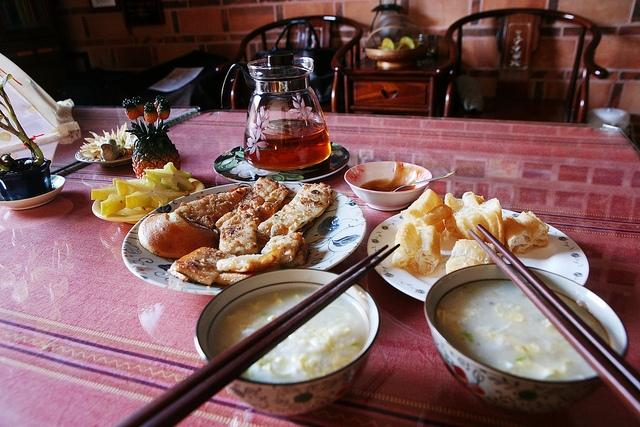pineapple: (125, 119, 180, 178), (144, 163, 195, 192), (100, 191, 126, 216), (126, 190, 152, 209), (91, 186, 118, 201), (122, 98, 140, 120), (144, 102, 158, 123), (157, 99, 170, 120), (126, 184, 150, 195), (128, 182, 154, 190), (112, 178, 128, 186)
